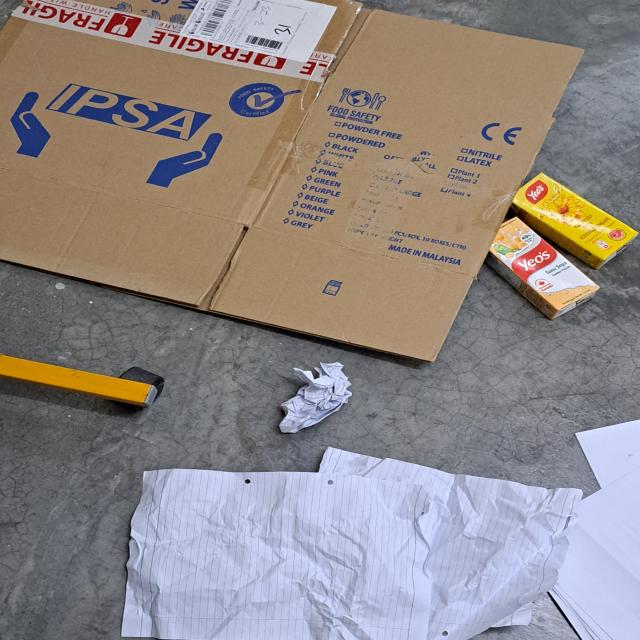cardboard: (0, 0, 584, 368)
drink carton: (513, 172, 640, 270), (486, 217, 600, 320)
paper: (122, 445, 585, 640), (545, 419, 640, 640), (278, 361, 353, 432)
